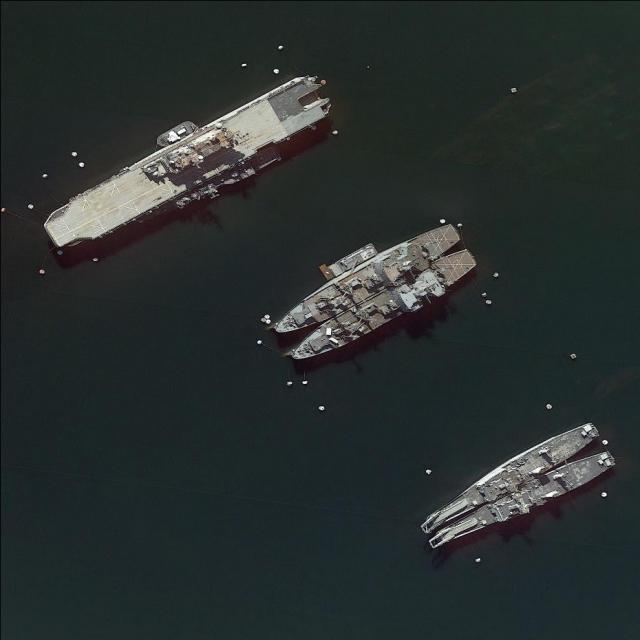Auxiliary Ships: (427, 440, 620, 564), (412, 415, 604, 539)
Landing: (38, 67, 337, 256), (281, 244, 485, 377), (264, 215, 467, 348)
Other Warship: (155, 118, 199, 149)
